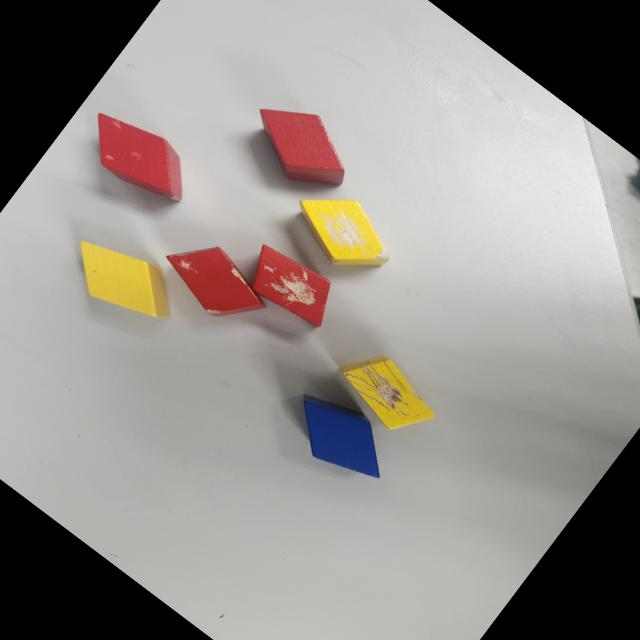blue: (276, 378, 405, 497)
broken: (73, 98, 205, 218), (154, 226, 278, 340), (282, 176, 404, 290), (326, 338, 444, 447), (236, 235, 344, 336)
red: (236, 84, 366, 208)
yellow: (56, 220, 190, 342)
